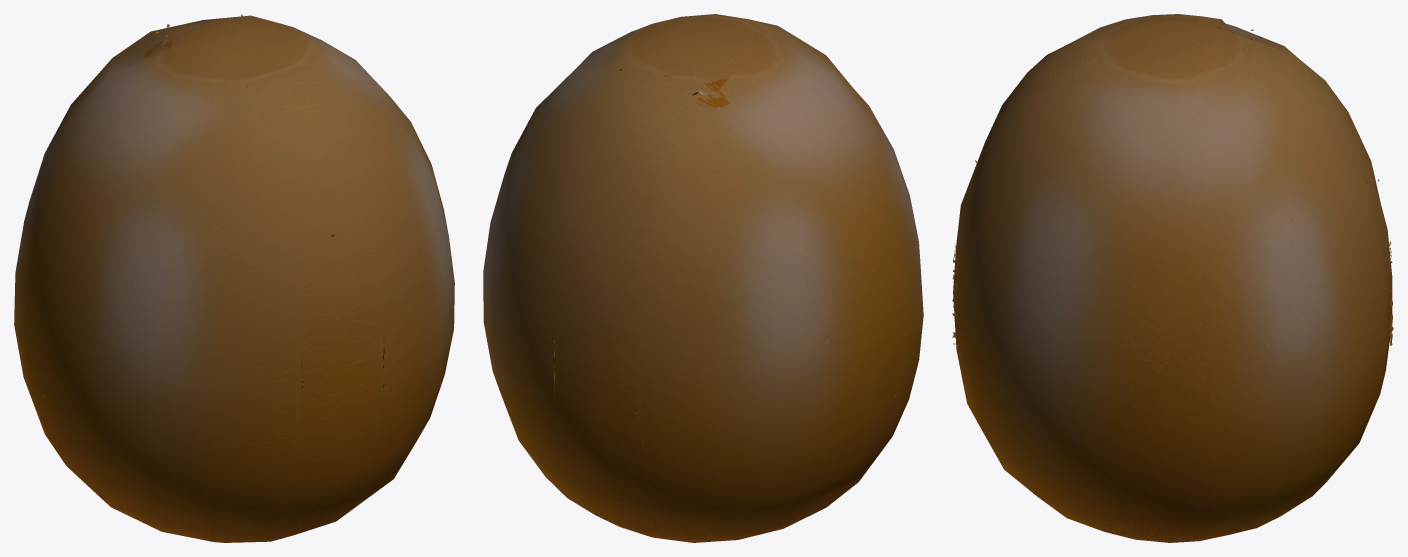
Rendered from kiwi-300T.fbx.
The picture shows the model from 3 angles, left to right: view 1: azimuth 30°, elevation 25°; view 2: azimuth 150°, elevation 25°; view 3: azimuth 270°, elevation 25°; orthographic projection.
Visible parts, largest first — view 1: tripo_node_26bd770d; view 2: tripo_node_26bd770d; view 3: tripo_node_26bd770d.
Part boxes in pixels (x1,y1,x2,y2): tripo_node_26bd770d: (14,14,454,542); tripo_node_26bd770d: (483,14,923,542); tripo_node_26bd770d: (952,14,1393,542).
Size of the model in its own units: 0.8364 by 0.9914 by 0.8272.
Materials: 1 (1 with a texture image).
